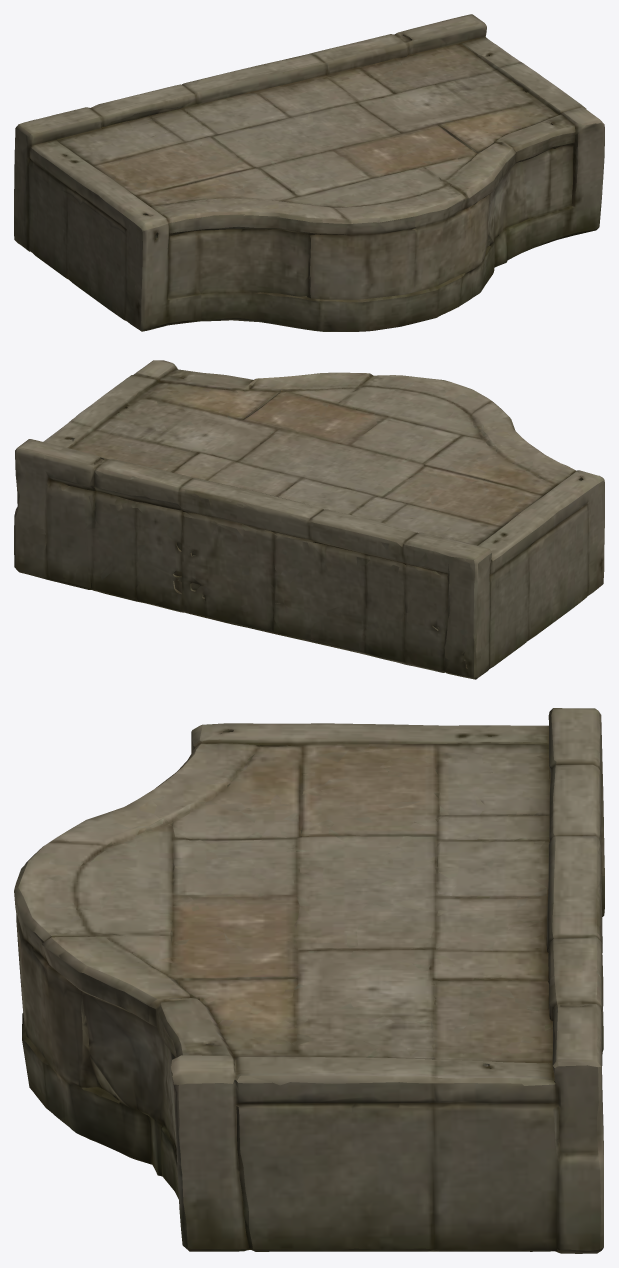
File: ENV-007.glb
The picture shows the model from 3 angles, top to bottom: view 1: azimuth 30°, elevation 25°; view 2: azimuth 150°, elevation 25°; view 3: azimuth 270°, elevation 25°; orthographic projection. The views are drawn at different scales.
Parts seen in each view (by area): view 1: world; view 2: world; view 3: world.
Part boxes in pixels (left/top/right/bottom): world: left=14, top=14, right=604, bottom=331; world: left=14, top=360, right=604, bottom=679; world: left=14, top=708, right=604, bottom=1253.
Bounding box in the file's own units: 2.4 × 0.6283 × 1.69.
1 material, 1 textured.
